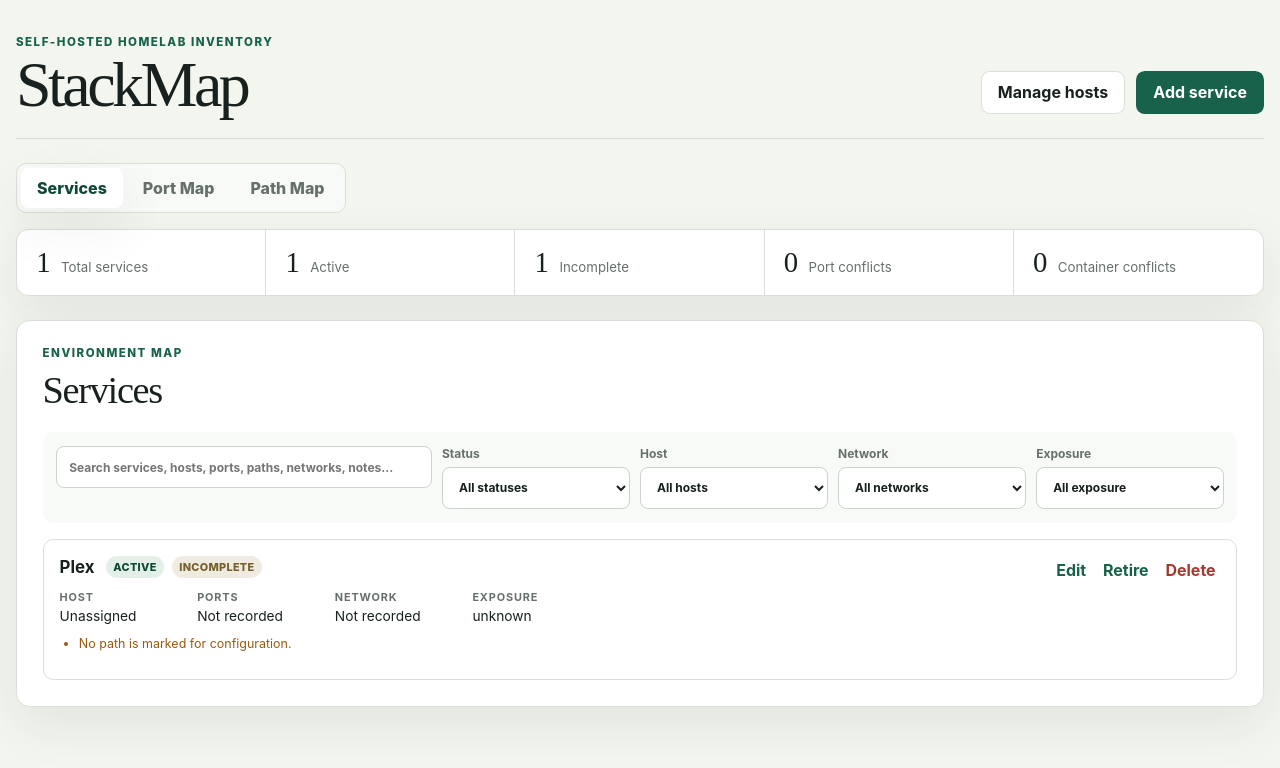
Test: StackMap service workflows › edits a service
The width and height of the screenshot is (1280, 768).
Click the button with aria-label "Edit Plex".
click(1071, 570)  # box [1051,556,1091,585]
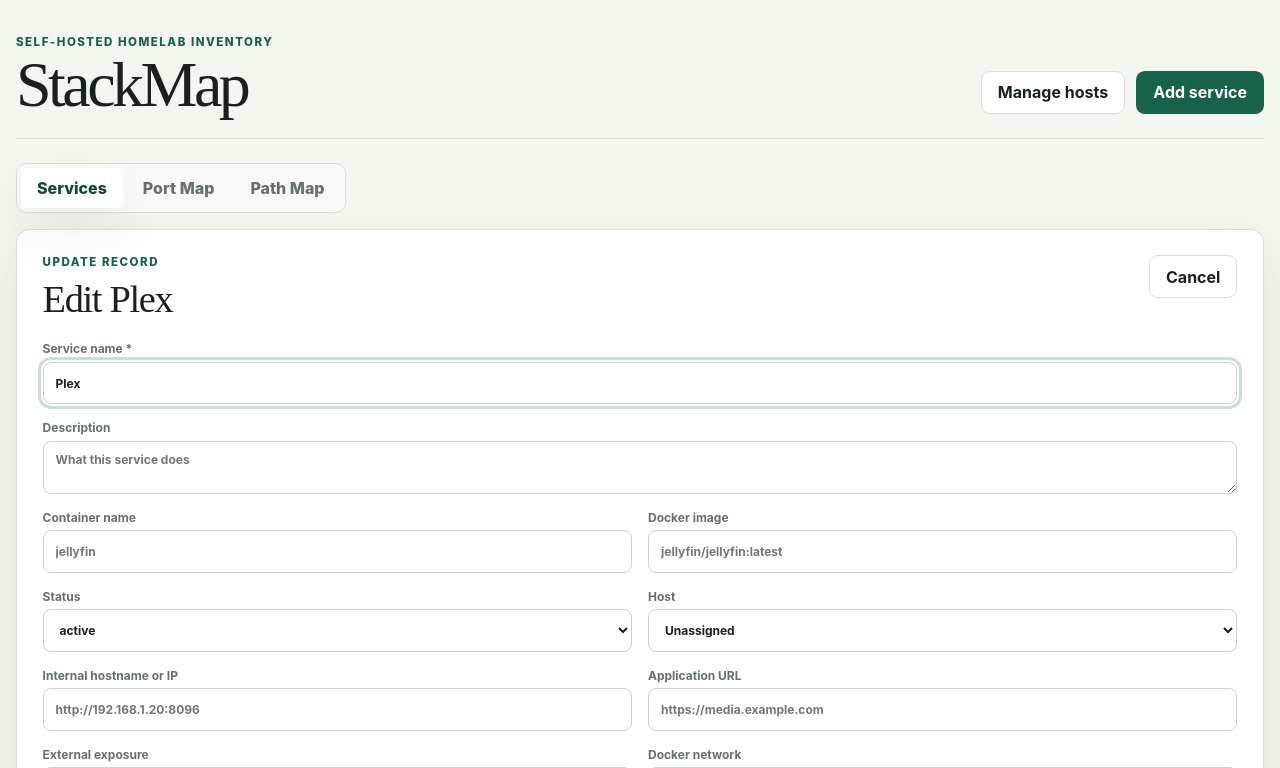
Replace the text in the field labelled "Service name *" with "Plex Media" at (640, 383), box [43,362,1237,404]
(page scrolled)
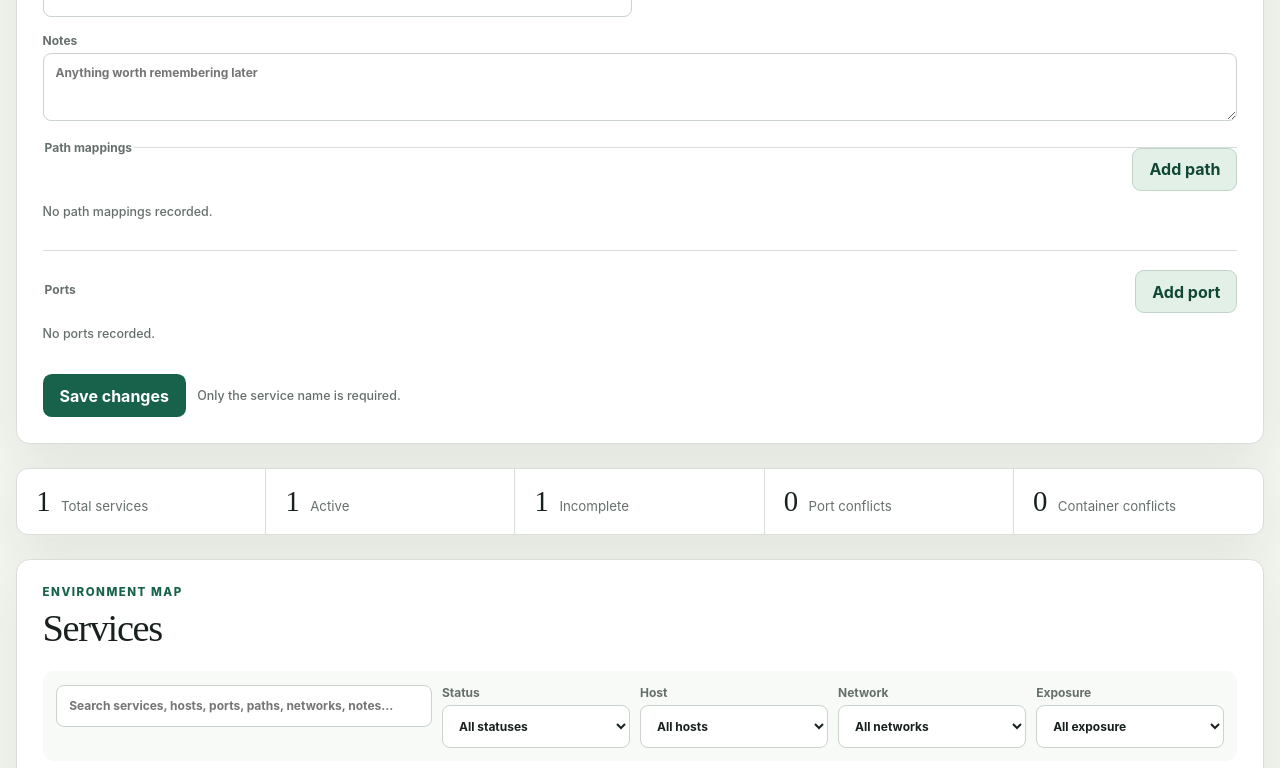
Click the button "Save changes".
click(114, 396)  # box [43,374,186,417]
(page scrolled)
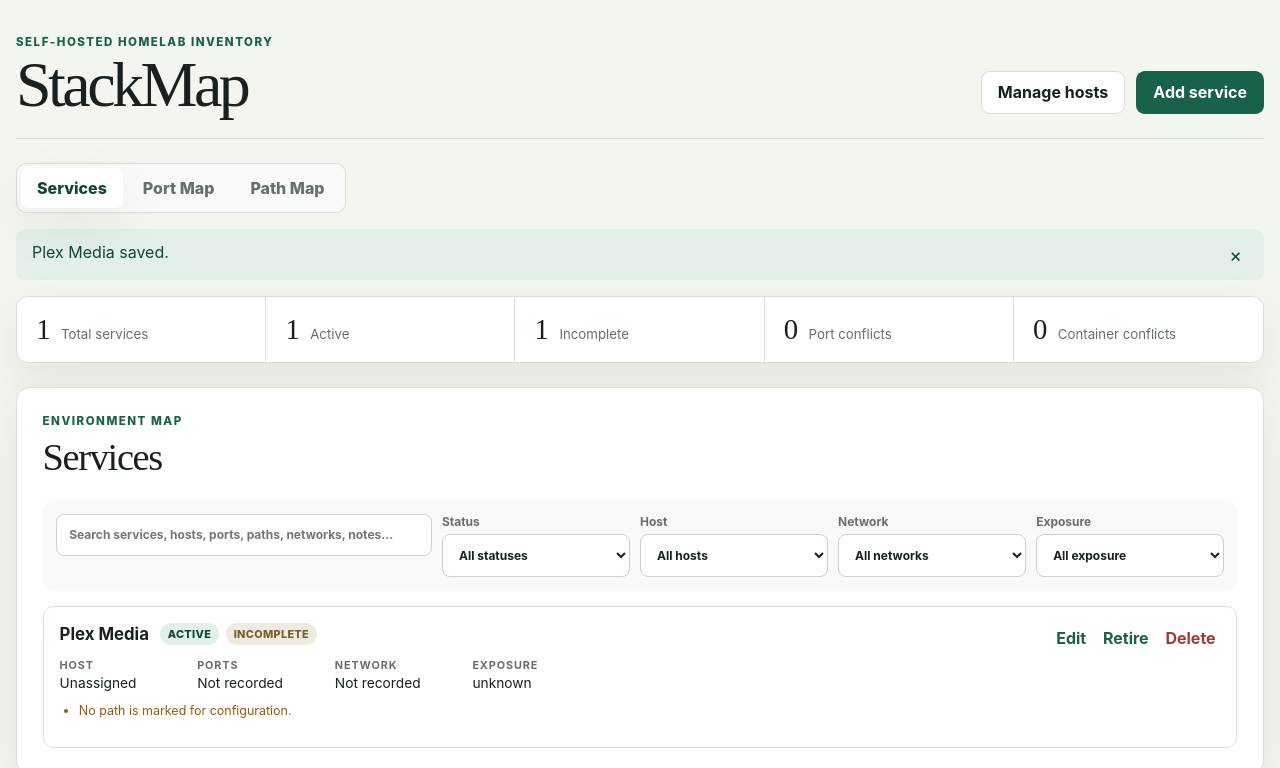
Check: the heading "Plex Media" is shown, box [60,624,149,644]
